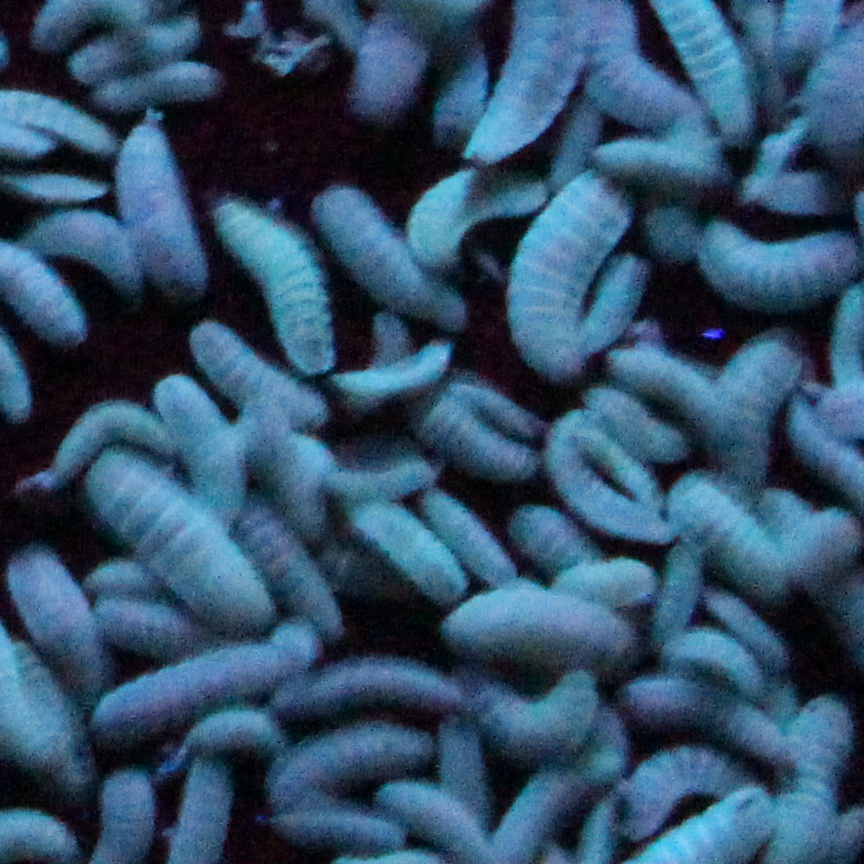larve: (102, 469, 250, 614), (312, 189, 473, 307), (228, 199, 328, 358), (517, 177, 591, 365), (458, 599, 643, 669), (121, 128, 202, 277), (708, 221, 850, 305), (624, 677, 772, 753), (269, 663, 471, 716), (721, 323, 782, 473), (479, 678, 594, 755), (264, 731, 436, 774), (263, 806, 408, 853), (363, 516, 449, 583), (718, 518, 786, 594), (131, 666, 267, 700), (409, 794, 481, 857), (654, 541, 703, 630), (279, 531, 326, 622), (789, 516, 852, 582), (664, 632, 760, 675), (528, 496, 573, 574), (459, 514, 507, 581), (578, 556, 649, 601), (181, 712, 261, 750), (91, 18, 187, 46), (98, 68, 209, 89)
